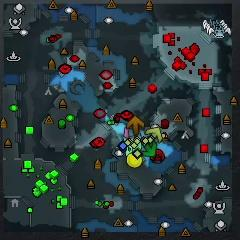p2: (126, 141, 141, 156)
p4: (127, 153, 142, 168)
x1: (124, 128, 129, 138)
x2: (146, 127, 162, 143)
x3: (123, 133, 142, 141)
x4: (142, 141, 157, 156)
x5: (127, 115, 144, 135)
